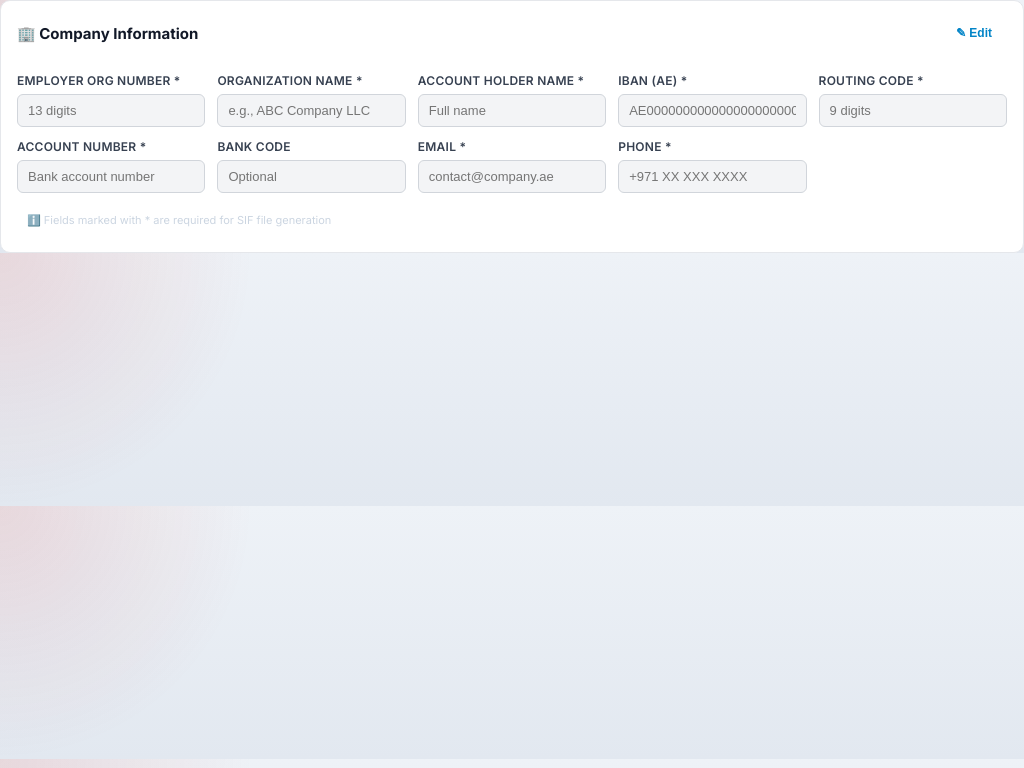
CompanyInfoSection — edit mode › button text changes to "Done" after clicking Edit
Step 1. Click the button "✎ Edit" → (974,33), box 941,17 -> 1007,49
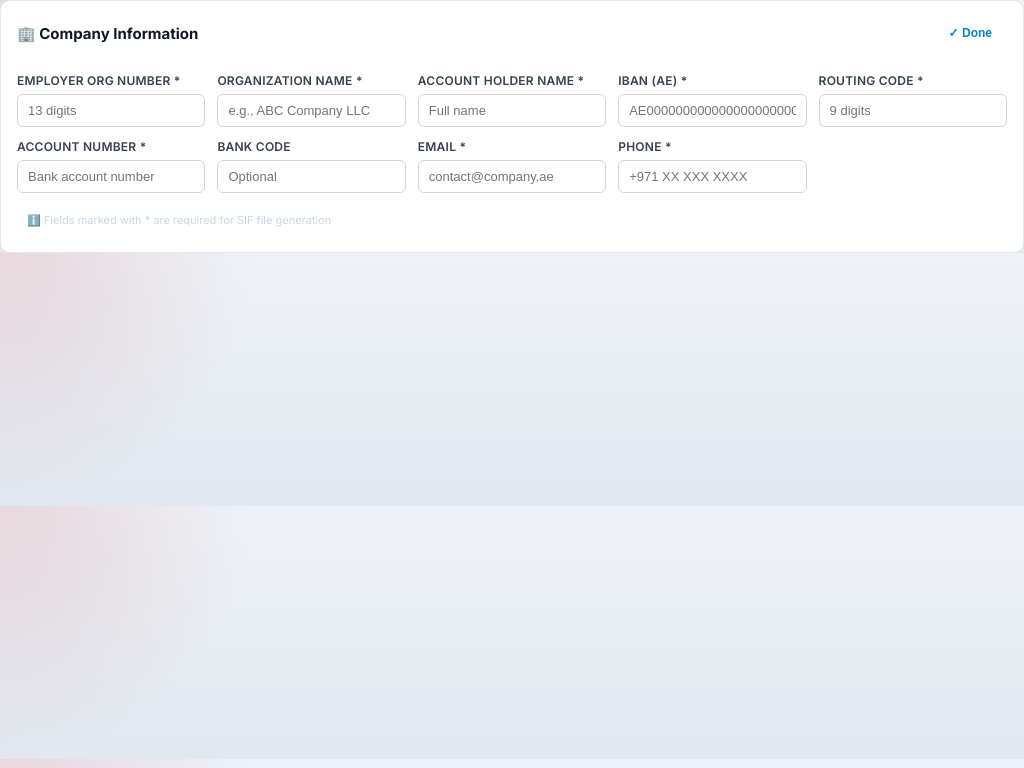
Check: the button "✓ Done" is shown, box 934,17 -> 1007,49
